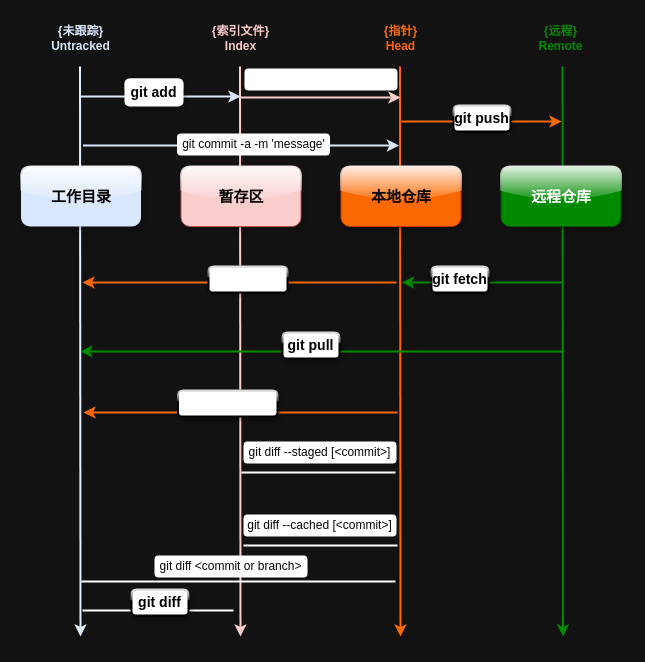
The diagram is 645 pixels wide and 662 high, and some of its shapes have lost their labels. The shapes that lost their labels are listed below. From the top down, each one's centre as x and y in pixels, then its label:
point 320,79: git commit -m 'message'
point 248,280: git merge
point 228,404: git diff HEAD
